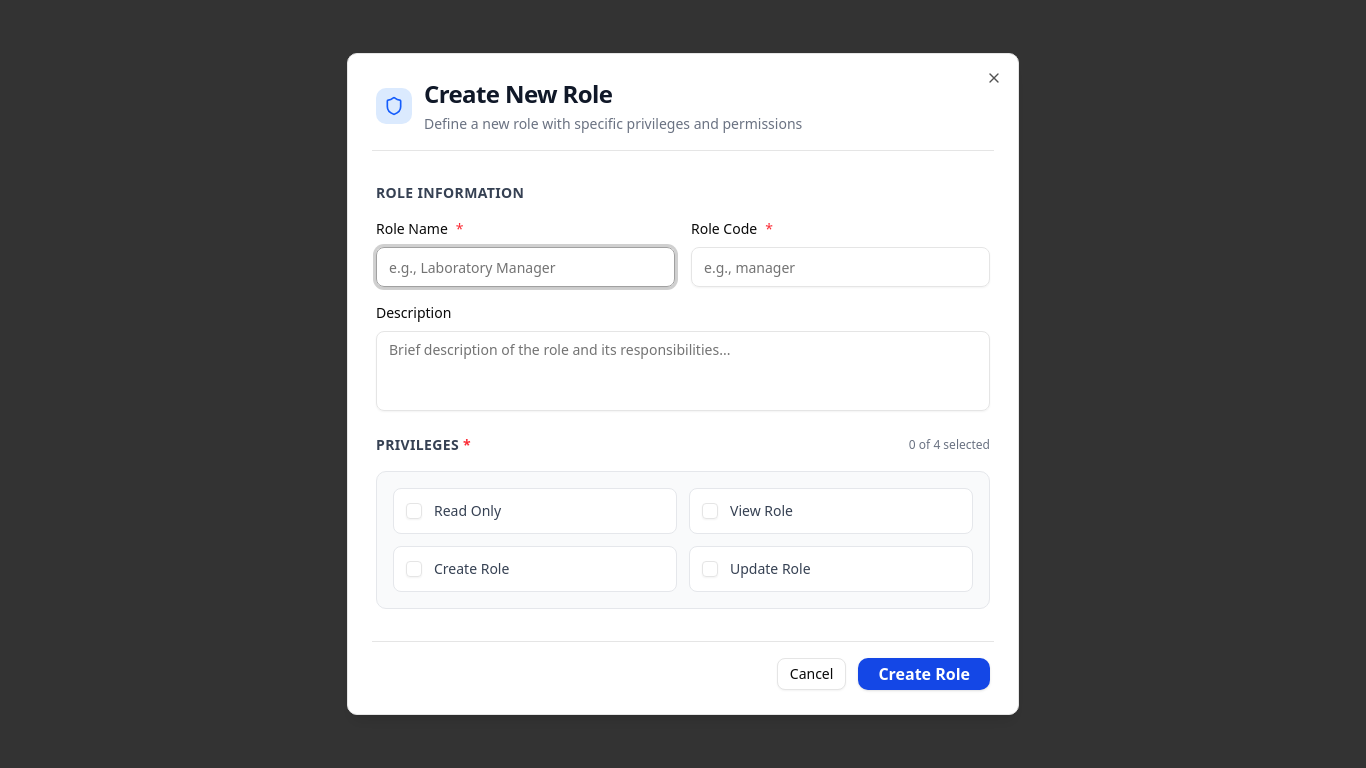
Test: AddRoleModal › hiển thị validation error khi submit form trống
Click the button "Create Role".
click(924, 674)  # box [858,658,990,690]
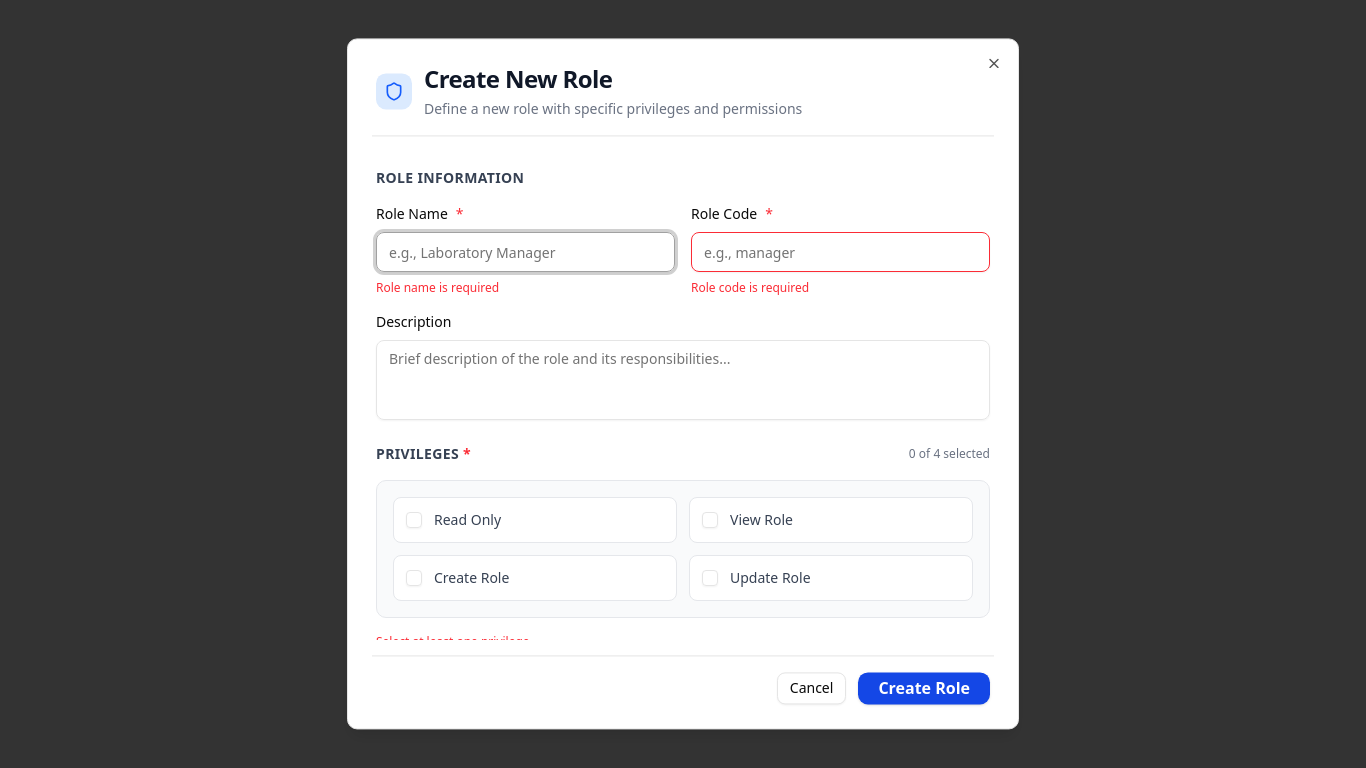
Now the text "Role name is required" is shown, box [376,279,499,296]
